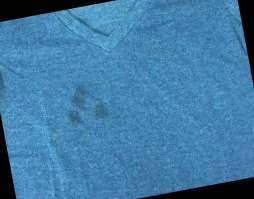oil: (63, 81, 113, 128)
